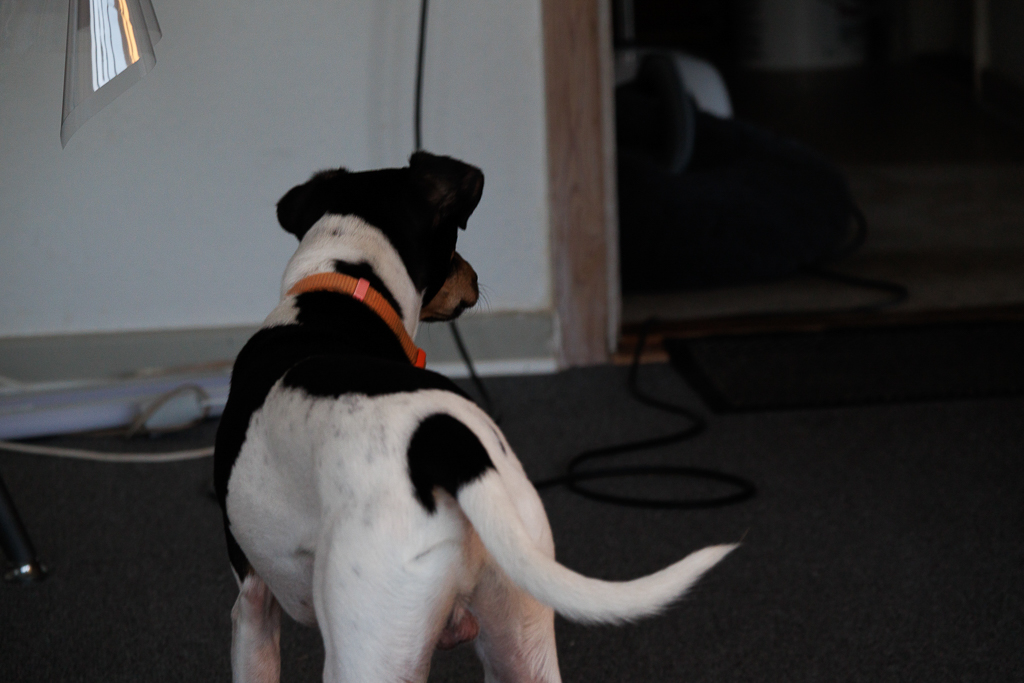Dog: (195, 138, 750, 683)
